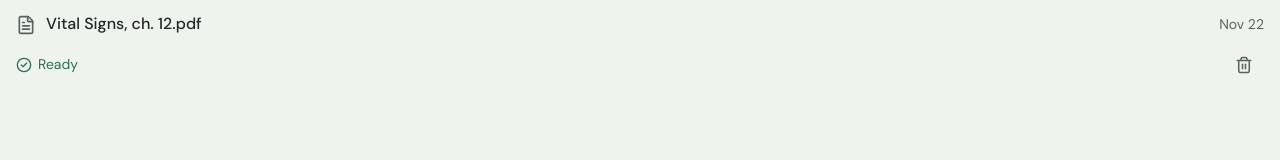
it: DocumentRow › delete asks before deleting
Later steps or results of the test are not shown.
Click the button named "Delete Vital Signs, ch. 12.pdf": (1244, 65) [1224, 45, 1264, 85]
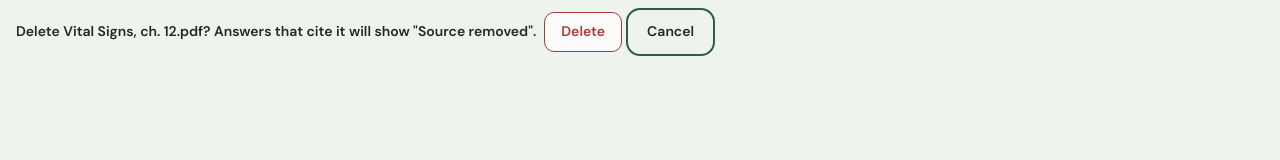
Check: the text "Delete Vital Signs, ch. 12.pdf? Answers that cite it will show \"Source removed\"." is shown, box [16, 21, 536, 43]
